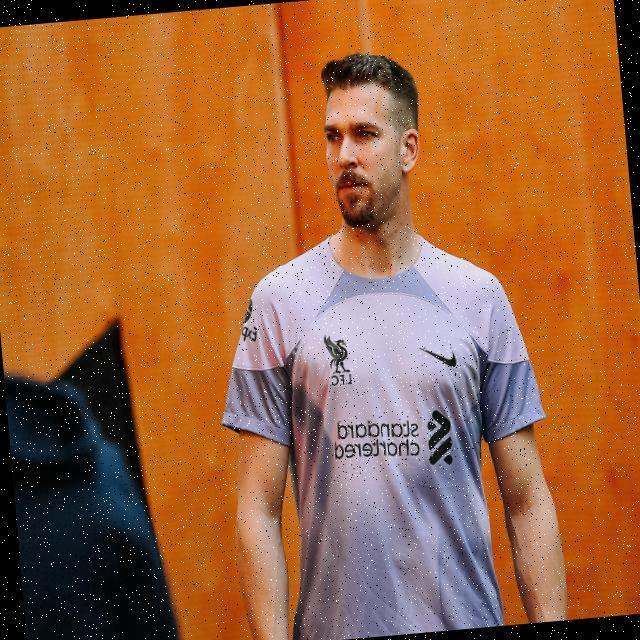Nike: (420, 344, 459, 370)
Standard Chartered: (330, 407, 457, 477)
